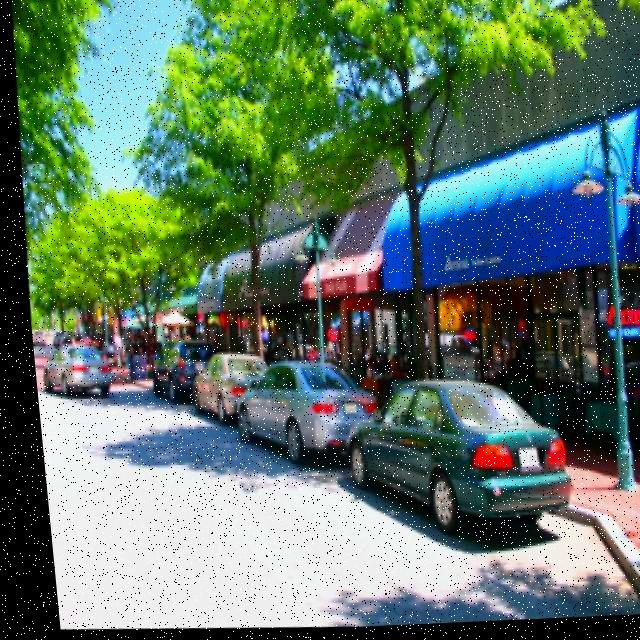license_plate: (504, 448, 536, 479)
